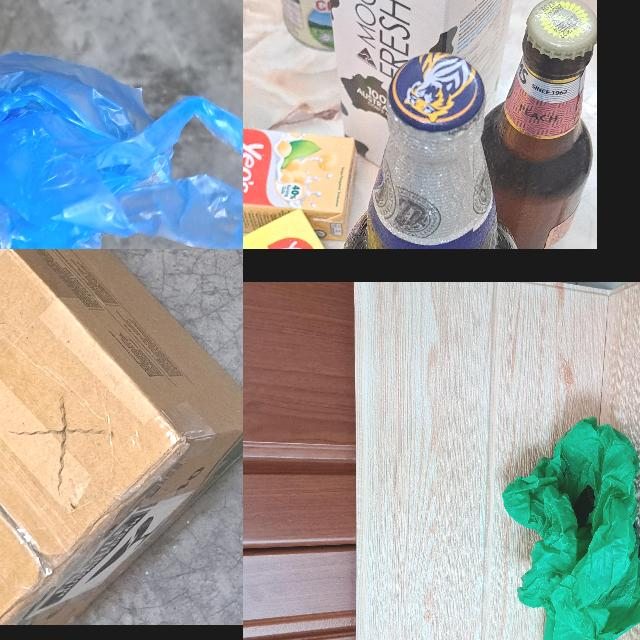caixinha: (321, 0, 532, 168), (243, 117, 360, 238)
garrafa de vidro: (339, 52, 525, 249), (483, 0, 597, 249)
lata: (264, 0, 346, 51)
papelão: (0, 249, 243, 624)
sacola plástica: (0, 0, 243, 249), (505, 417, 640, 640)
